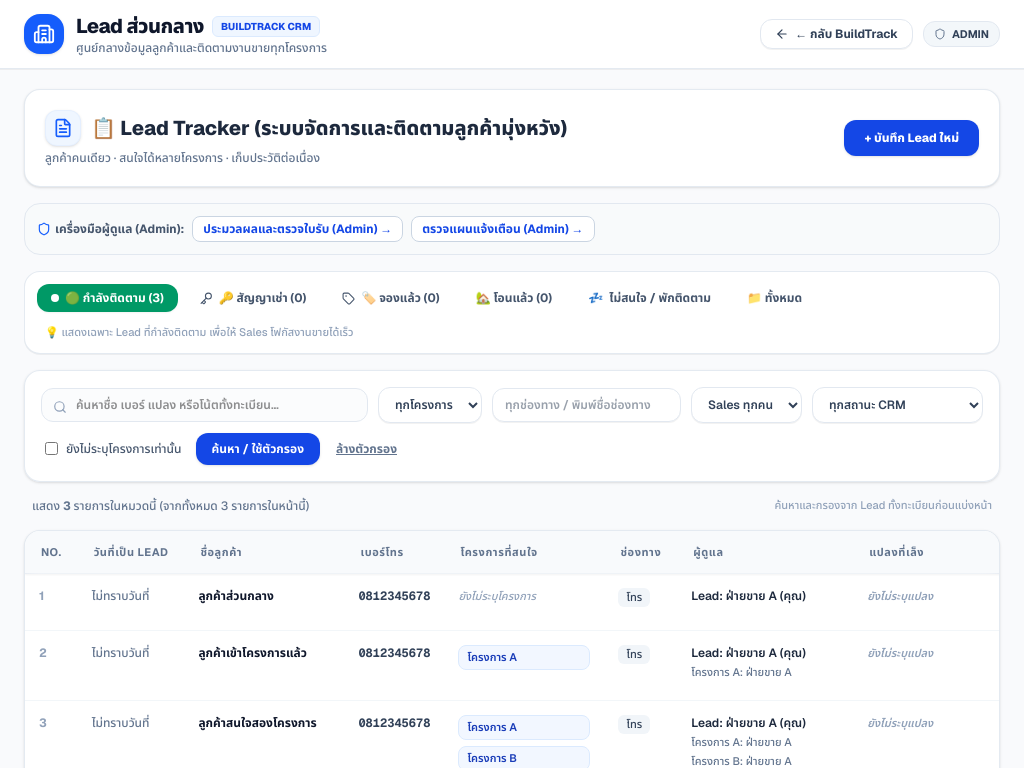
Test: central lead workspace › hides manual SLA processing by default and during central intake
What coordinates should you click on to do the following:
click the button "+ บันทึก Lead ใหม่"
I would click on:
 (912, 138)
Its box is [844, 120, 979, 156].
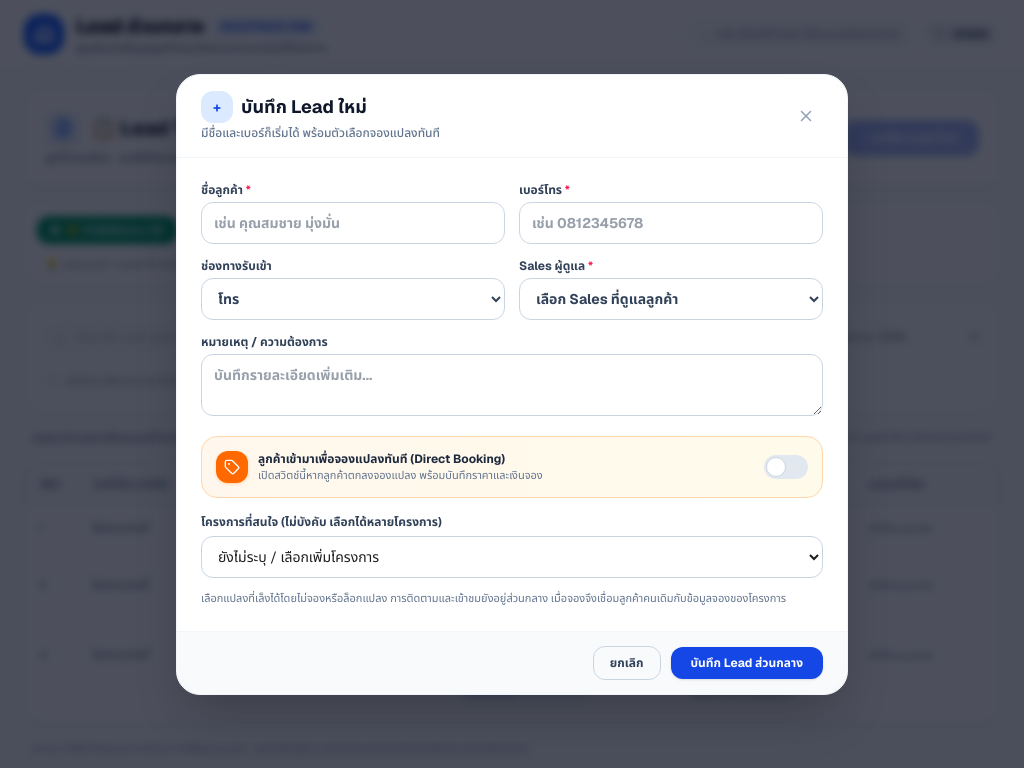
Now the link "ประมวลผลและตรวจใบรับ (Admin) →" is gone
